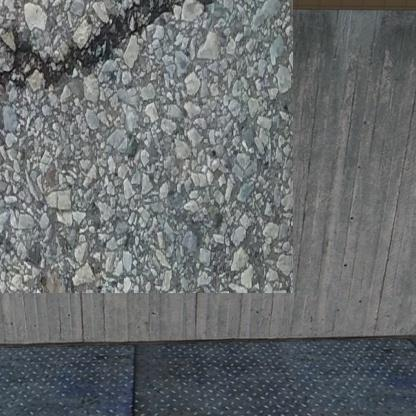Cracks: (0, 0, 199, 93)
